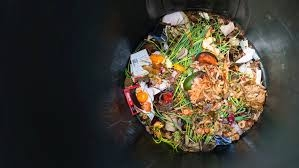kitchen_waste: (208, 77, 268, 111), (183, 119, 212, 147), (154, 125, 184, 151), (181, 69, 209, 92), (195, 49, 221, 69), (152, 90, 174, 112), (134, 90, 152, 113), (148, 50, 167, 69), (221, 109, 237, 128)
paper: (127, 46, 154, 81), (234, 39, 262, 66), (159, 9, 192, 27), (217, 18, 239, 38)
